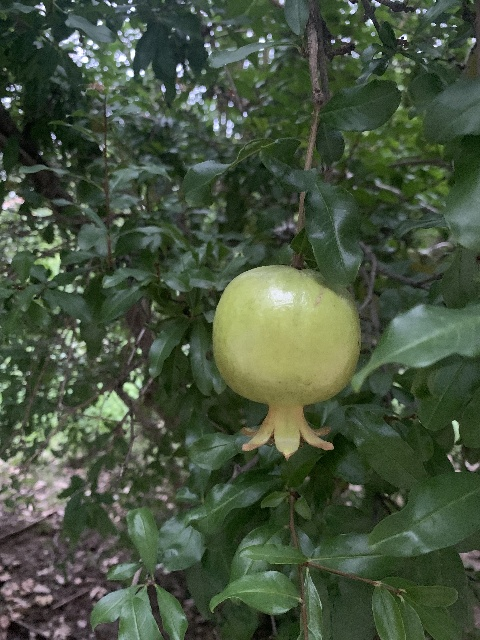mid-growth: (211, 264, 360, 458)
